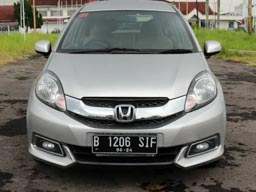plat: (93, 134, 156, 146)
